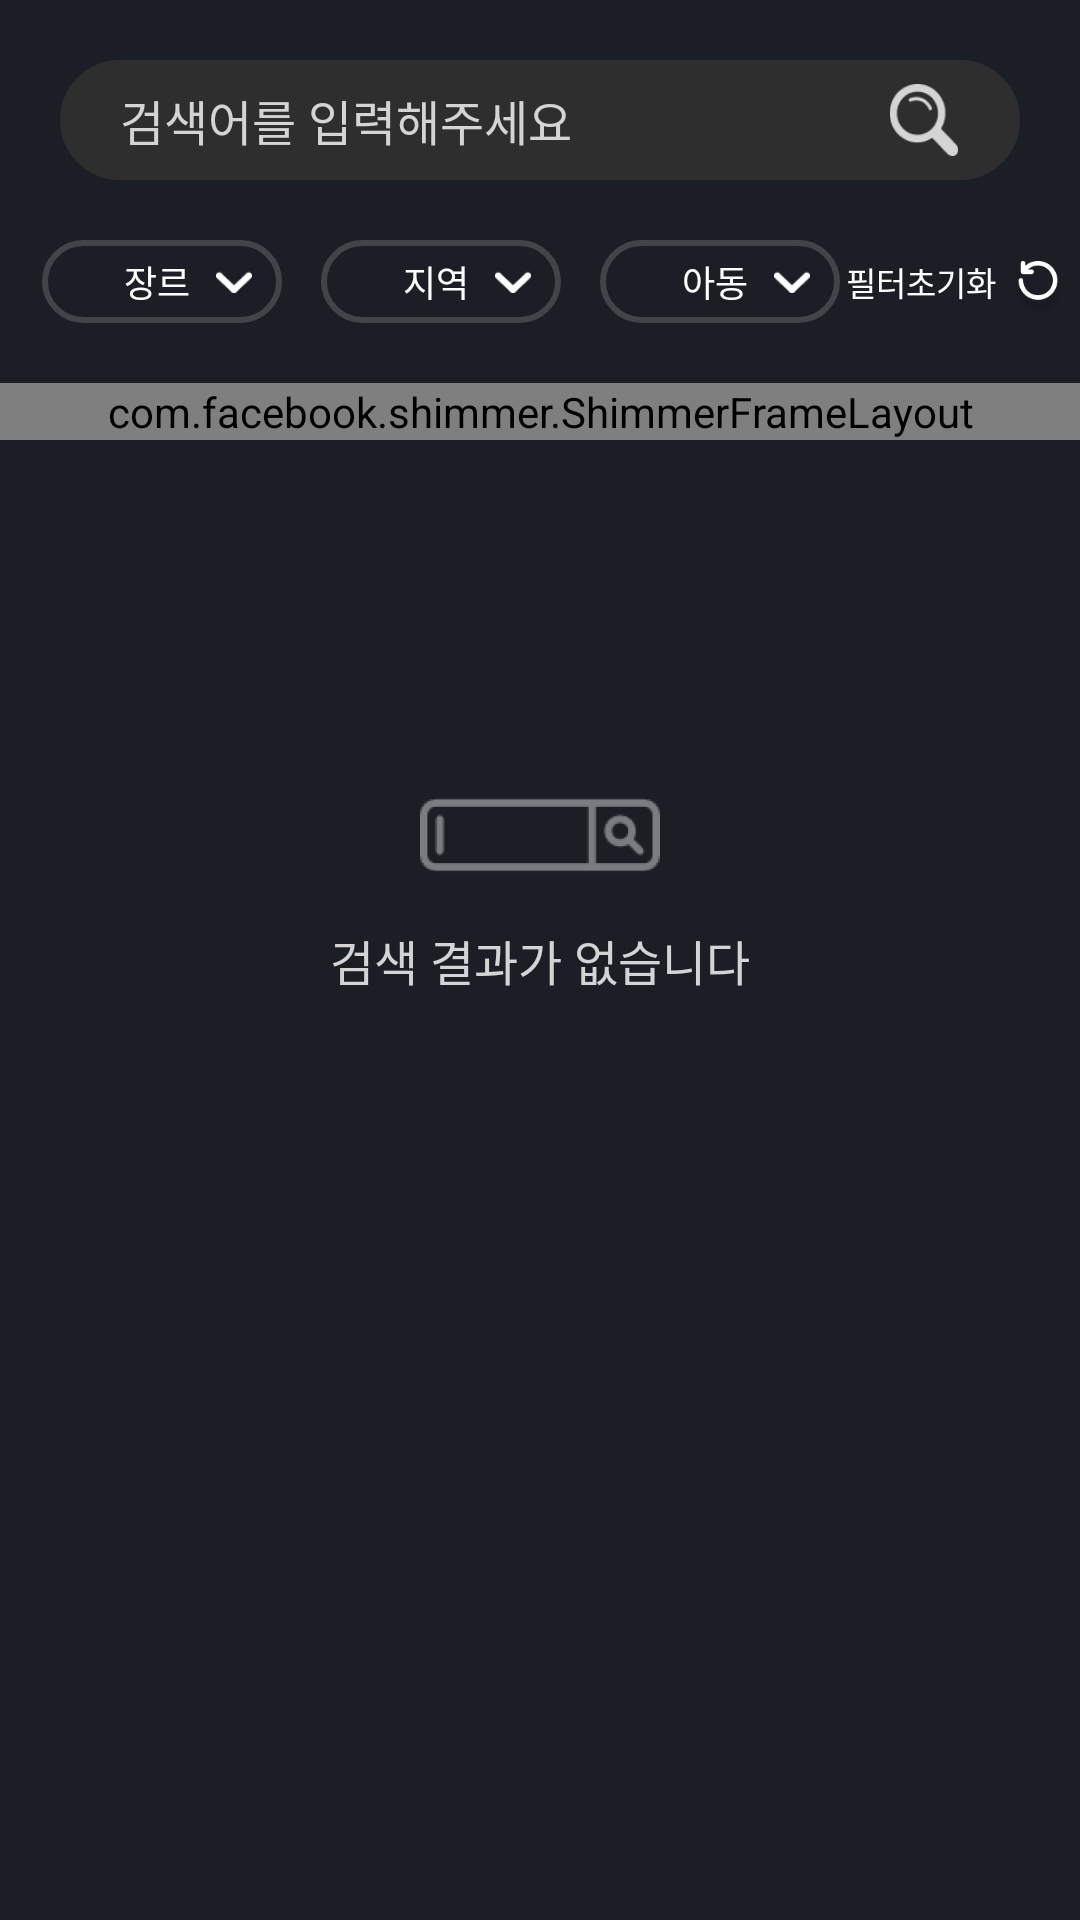

Screen size 1080w x 1920h. Icon name, then its center in pixels as [x,y]:
search bottomarrow: [234,282], [513,282], [792,282]
search filter reset: [1038,280]
search inputbtn: [924,120]
